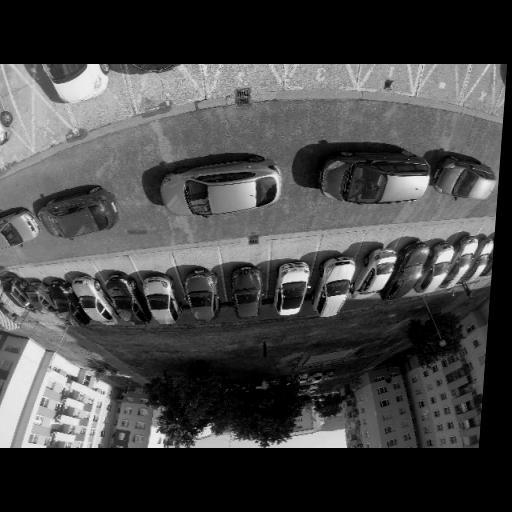busy: (153, 156, 288, 220), (315, 150, 439, 208), (43, 190, 123, 238), (26, 64, 110, 104), (382, 244, 433, 304), (271, 258, 318, 320), (312, 256, 358, 314), (436, 234, 480, 294), (436, 160, 497, 202), (222, 267, 270, 320), (178, 270, 226, 322), (412, 240, 455, 298), (70, 274, 119, 324), (137, 274, 185, 324), (104, 272, 148, 323), (357, 245, 400, 297), (0, 210, 42, 248), (464, 236, 495, 281), (0, 80, 16, 157), (24, 280, 60, 314), (49, 280, 80, 318), (103, 64, 189, 75)
free: (11, 75, 49, 120)
